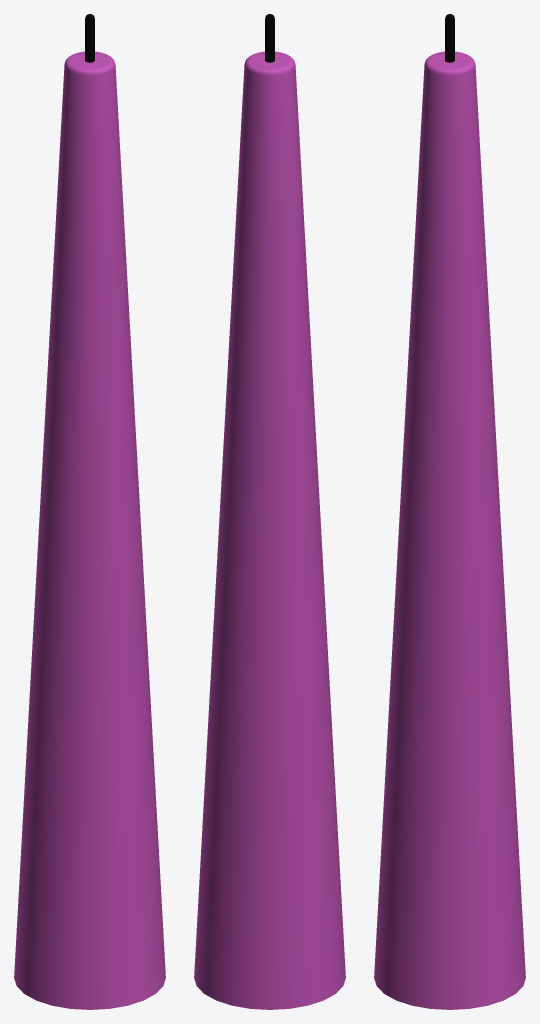
The model's file is CANDLE - PINK.fbx.
The picture shows the model from 3 angles, left to right: view 1: azimuth 30°, elevation 25°; view 2: azimuth 150°, elevation 25°; view 3: azimuth 270°, elevation 25°; orthographic projection.
Parts seen in each view (by area): view 1: Cone001, Object; view 2: Cone001, Object; view 3: Cone001, Object.
Part boxes in pixels (box(x1,y1,x2,y2)): Cone001: box(14, 51, 165, 1009); Object: box(85, 14, 94, 62); Cone001: box(194, 51, 345, 1009); Object: box(265, 14, 274, 62); Cone001: box(374, 51, 525, 1009); Object: box(445, 14, 454, 62).
Bounding box in the file's own units: 3 × 21 × 3.
